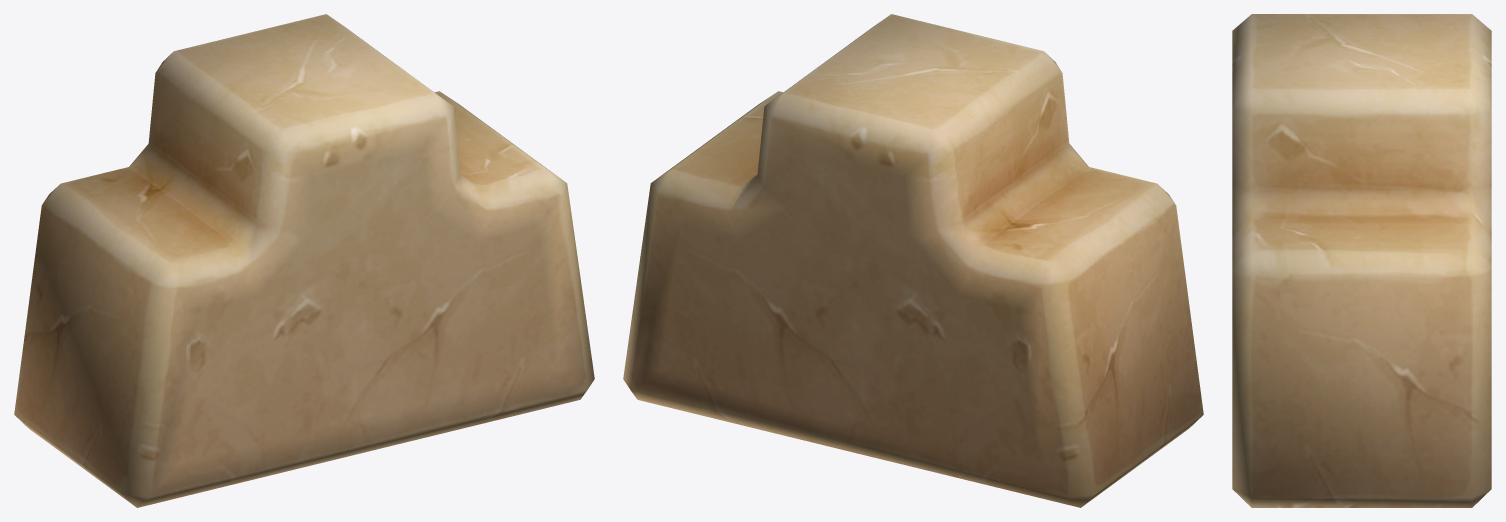
Rendered from DE_House_Mod_Part_68.fbx.
3 views of the same model, side by side, from view 1: azimuth 30°, elevation 25°; view 2: azimuth 150°, elevation 25°; view 3: azimuth 270°, elevation 25° (orthographic).
Parts seen in each view (by area): view 1: DE_House_Mod_Part_68; view 2: DE_House_Mod_Part_68; view 3: DE_House_Mod_Part_68.
Part boxes in pixels (box(x1,y1,x2,y2)): DE_House_Mod_Part_68: box(14, 14, 594, 507); DE_House_Mod_Part_68: box(623, 14, 1203, 507); DE_House_Mod_Part_68: box(1232, 14, 1491, 507).
Bounding box in the file's own units: 2.22 × 1.54 × 1.04.
